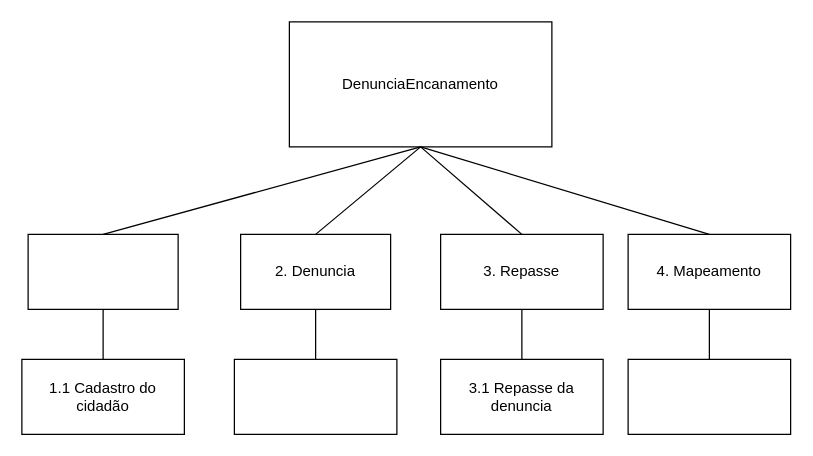
The diagram is 813 pixels wide and 456 high, and some of its shapes have lost their labels. Each missing label, with the centre of its shape:
1. Cadastro: the point at 102,271
2.1 Denuncia de Problema no encanamento: the point at 315,396
4.1 Mapeamento do encanamento: the point at 709,396
